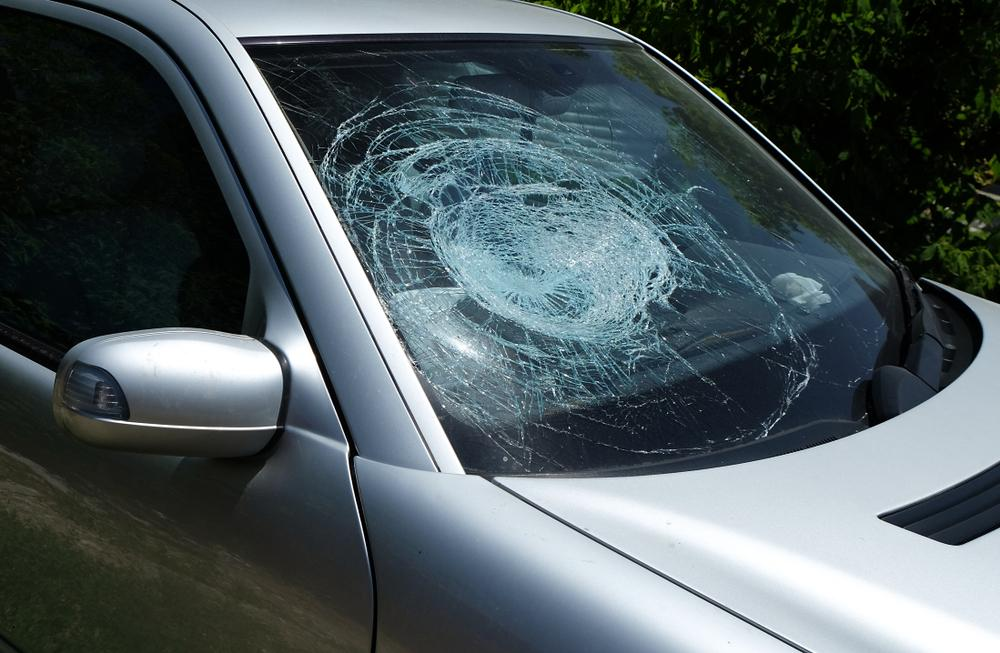glass shatter: (244, 40, 894, 473)
